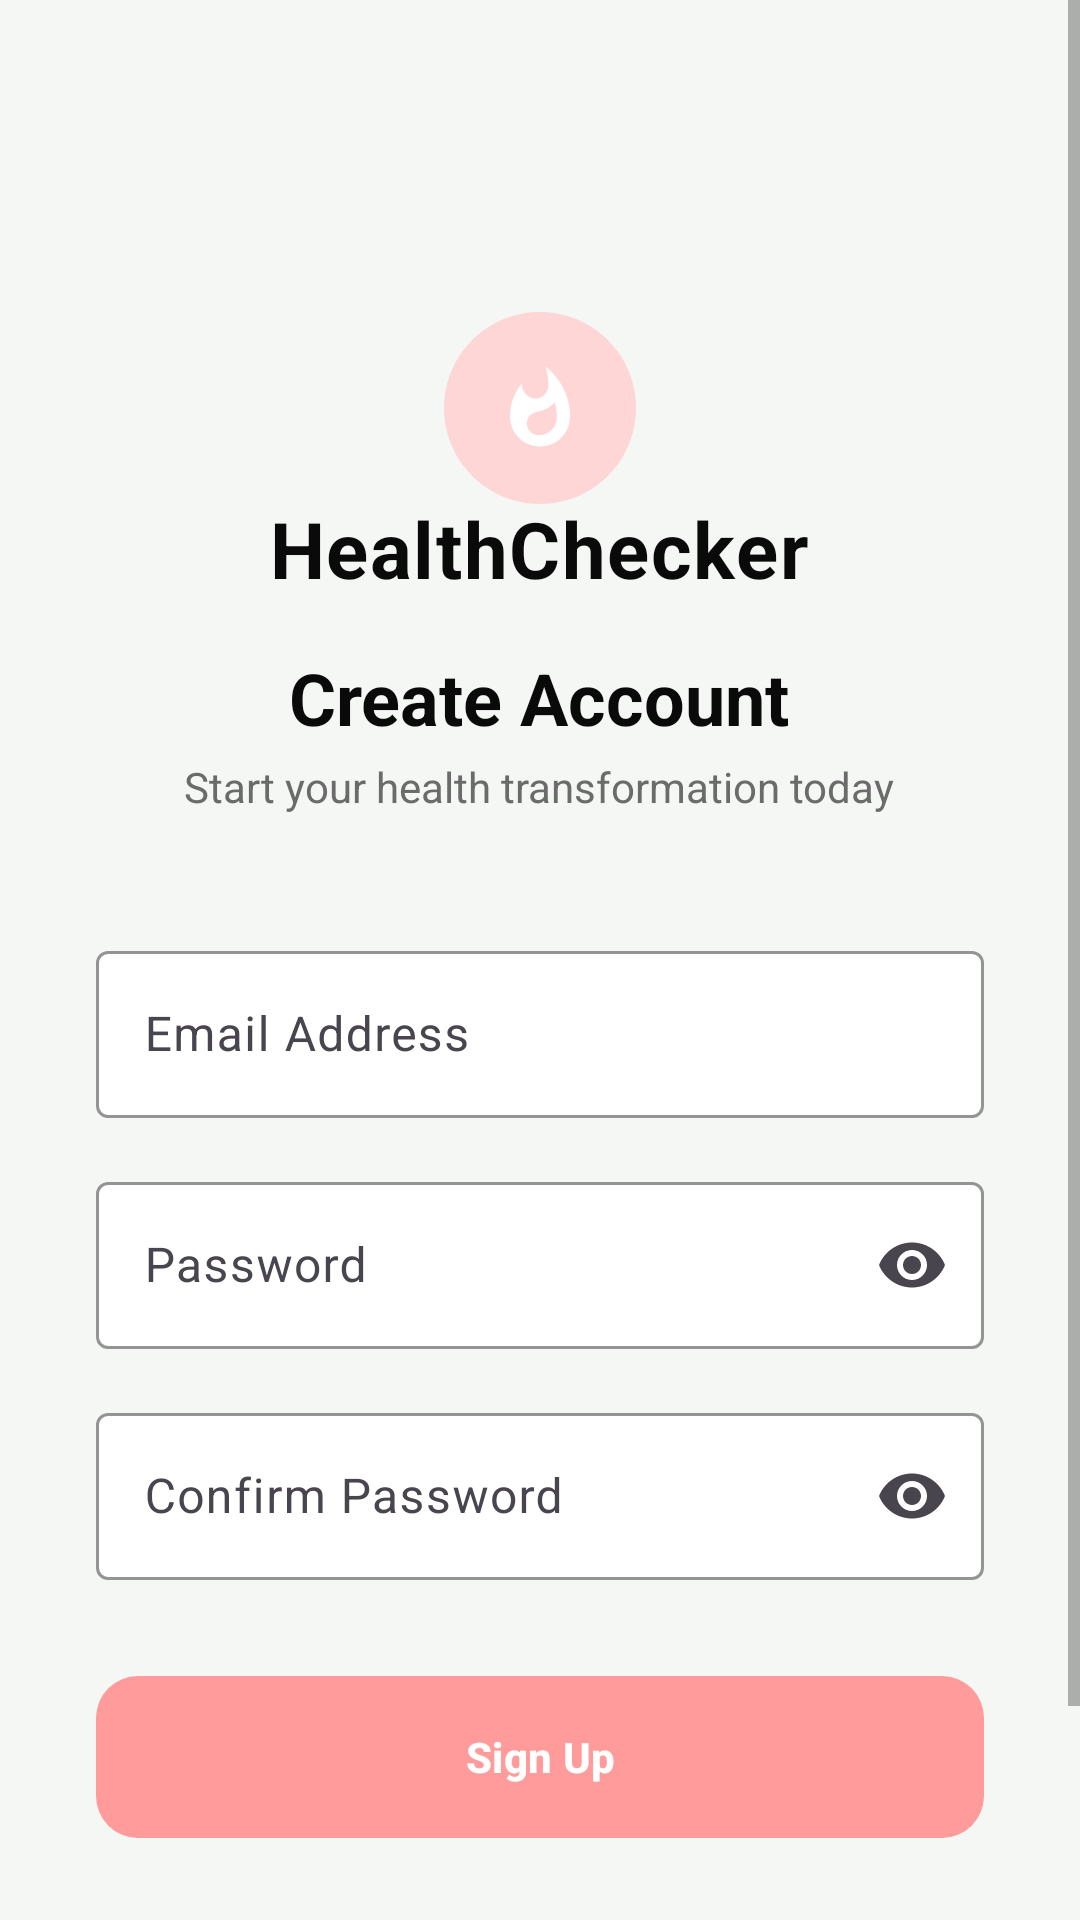

Icon click points for this 1080×1920 phone screenshot, format (x=x, y=y):
flame: (x=540, y=406)
